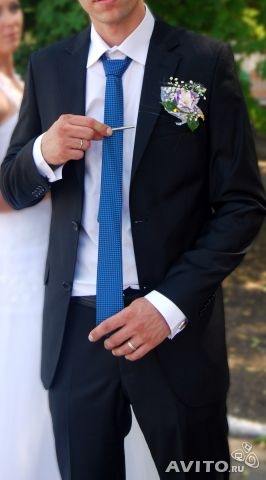tie: (90, 53, 135, 339)
